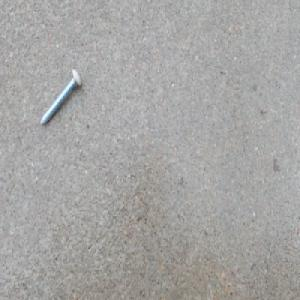Nail: (39, 66, 82, 126)
